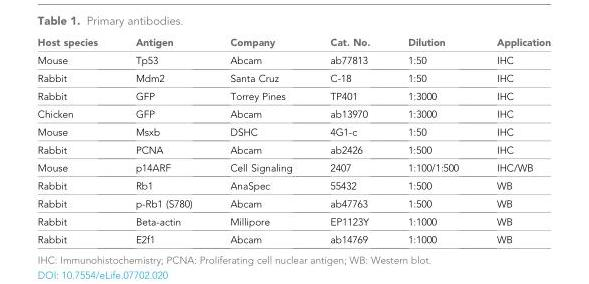table: (36, 37, 550, 244)
table column: (210, 37, 310, 244), (115, 37, 210, 244), (388, 37, 477, 244), (36, 37, 115, 244), (310, 37, 388, 244), (477, 37, 550, 244)
table column header: (36, 37, 550, 51)
table row: (36, 51, 550, 69), (36, 69, 550, 87), (36, 87, 550, 105), (36, 105, 550, 123), (36, 123, 550, 141), (36, 158, 550, 176), (36, 176, 550, 194), (36, 194, 550, 212), (36, 212, 550, 230), (36, 141, 550, 158), (36, 37, 550, 51), (36, 230, 550, 244)
